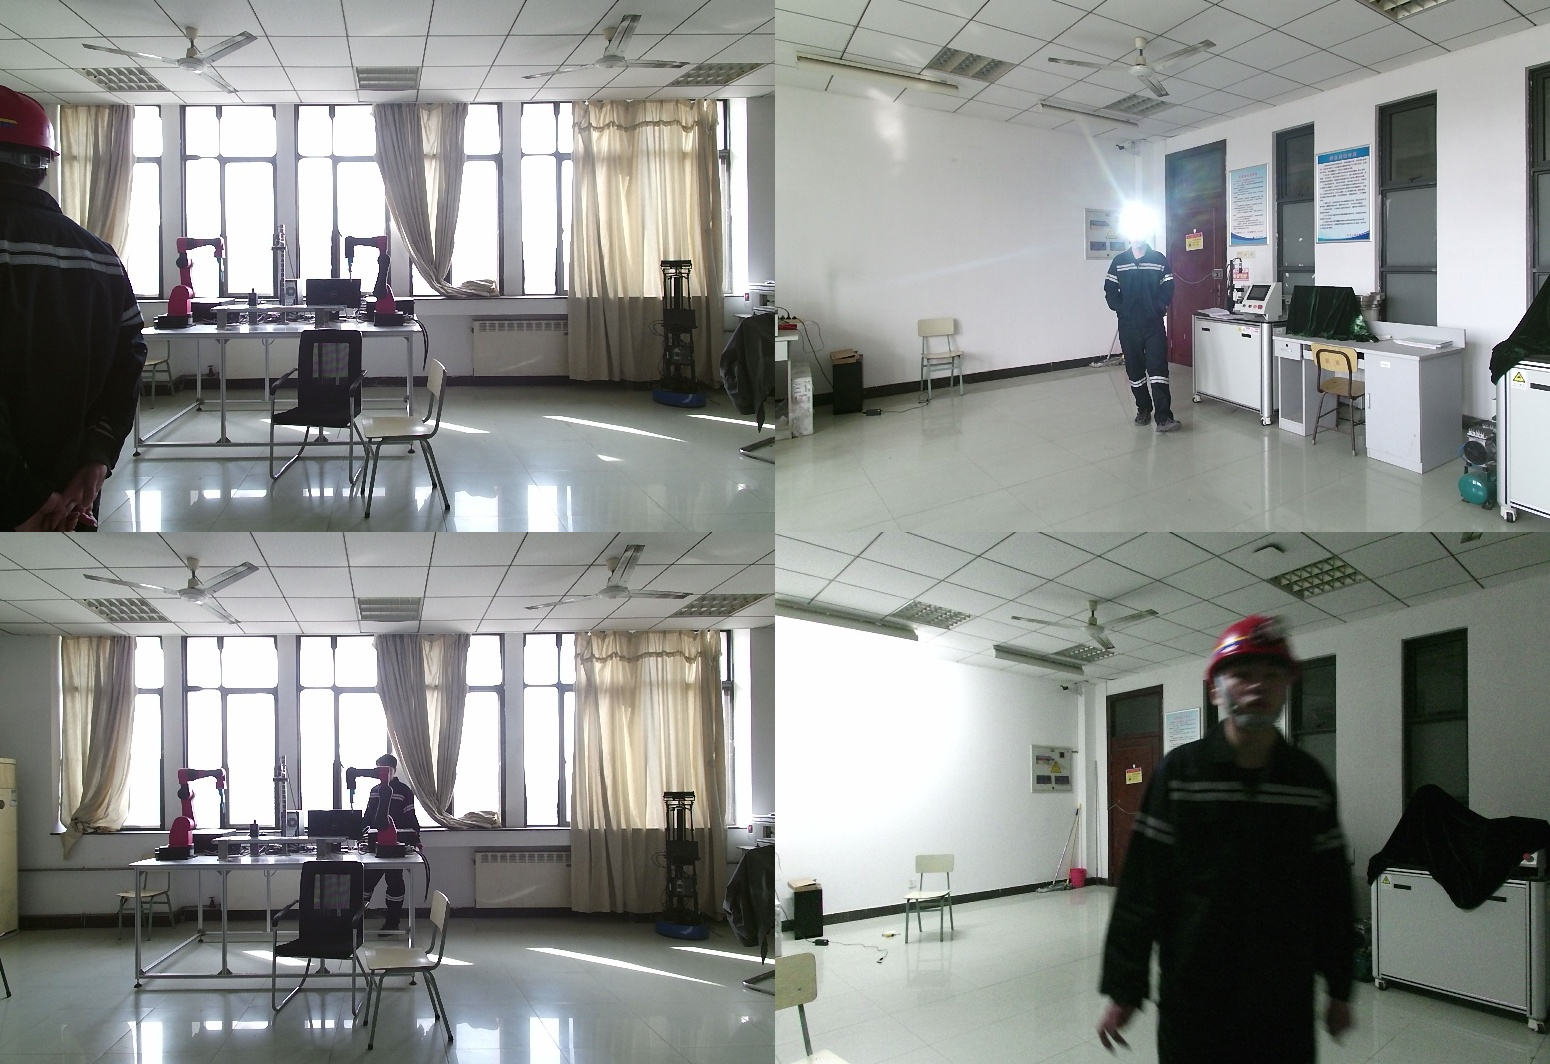person: (1101, 622, 1360, 1064), (1, 87, 148, 532), (1107, 225, 1181, 436), (362, 758, 422, 939)
